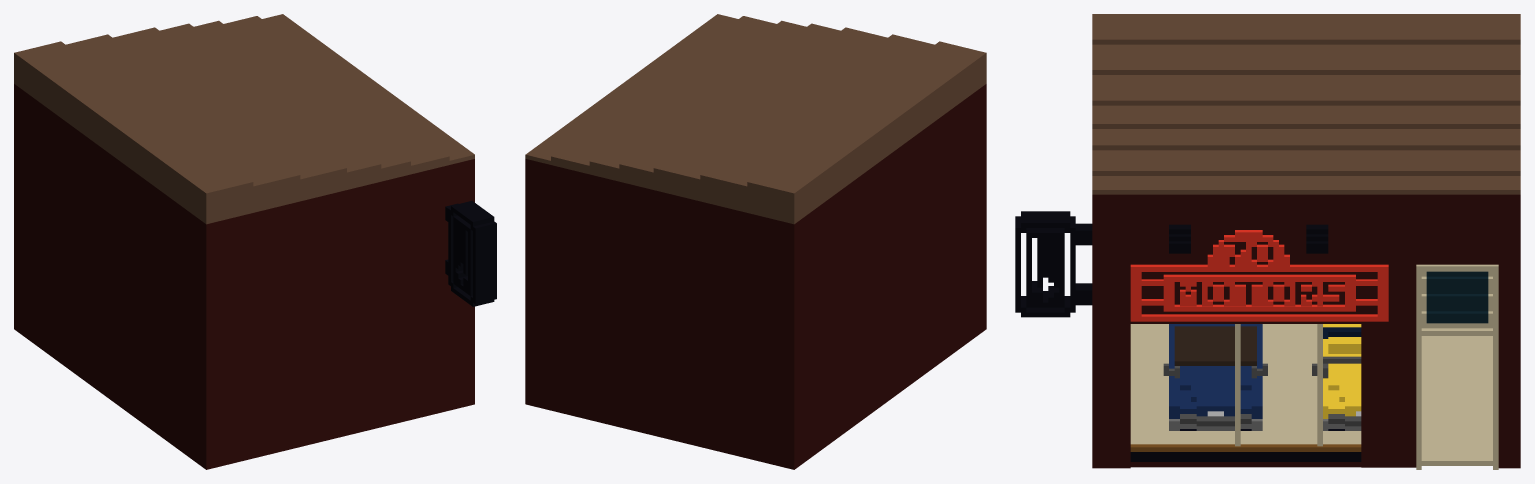
The model's file is Building_Mesh_003.fbx.
3 renders of one model, left to right at view 1: azimuth 30°, elevation 25°; view 2: azimuth 150°, elevation 25°; view 3: azimuth 270°, elevation 25°, orthographic. The views are drawn at different scales.
Visible parts, largest first — view 1: Building_003; view 2: Building_003; view 3: Building_003.
Boxes of the visible parts, bbox=[...] form: Building_003: bbox=[14, 14, 496, 469]; Building_003: bbox=[525, 14, 986, 469]; Building_003: bbox=[1015, 14, 1520, 469].
Size of the model in its own units: 6.9 by 6.2 by 9.2.
